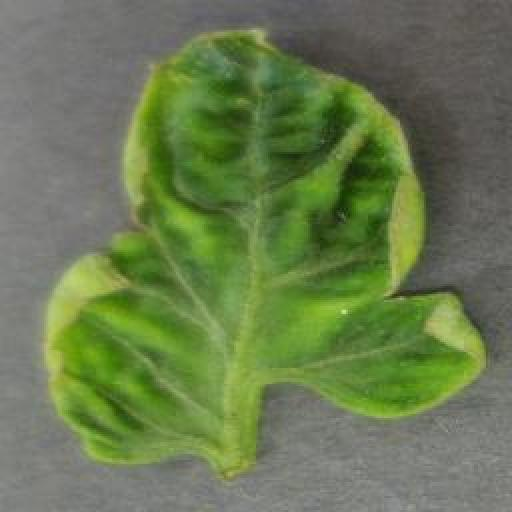disease_tomato: (42, 27, 490, 464)
